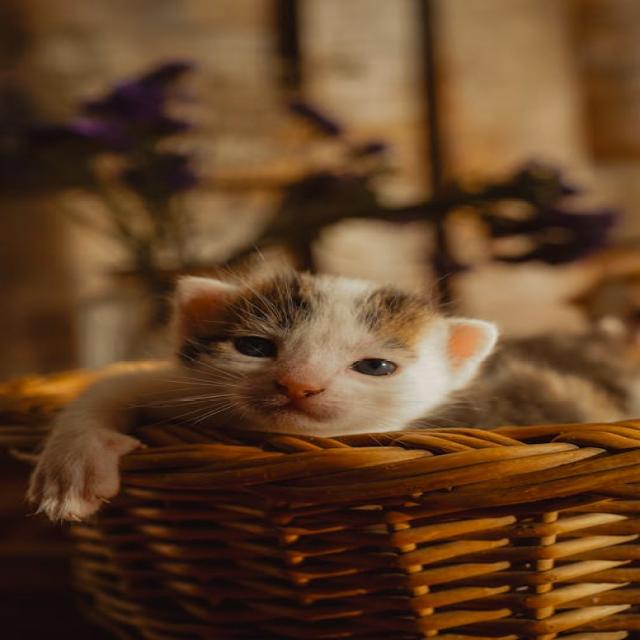Cat: (18, 245, 637, 523)
